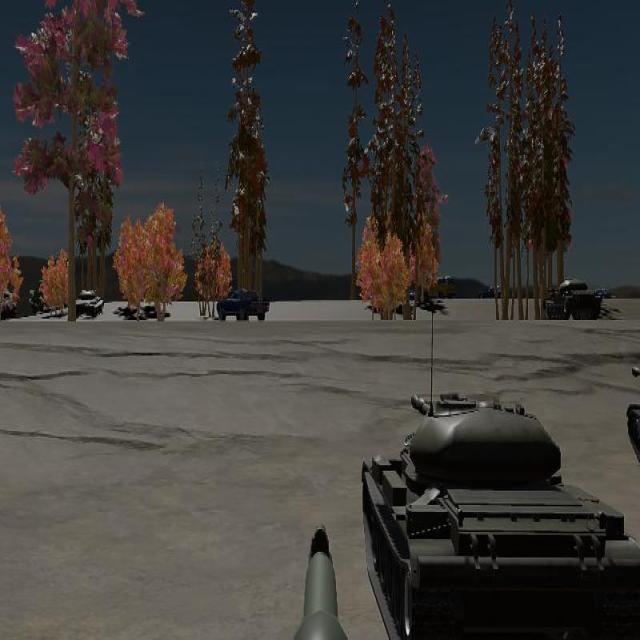Tank: (360, 389, 640, 639), (541, 277, 600, 321), (625, 340, 640, 471), (72, 286, 103, 318)
car: (216, 289, 269, 321)
